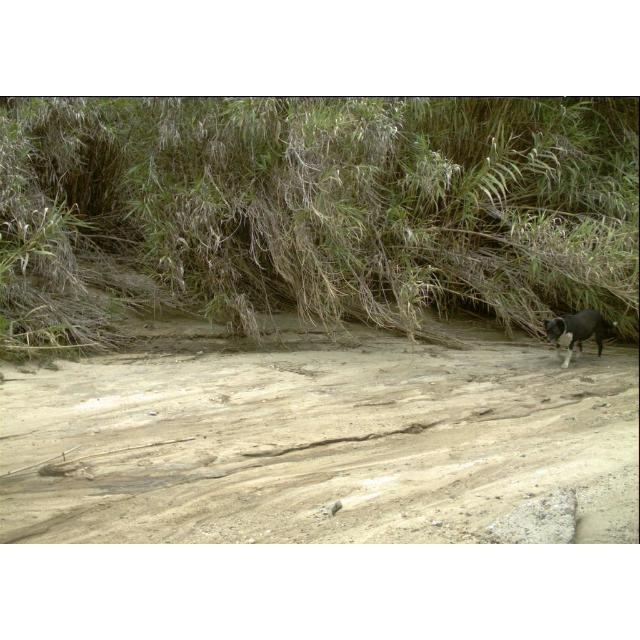animals: (542, 306, 614, 370)
